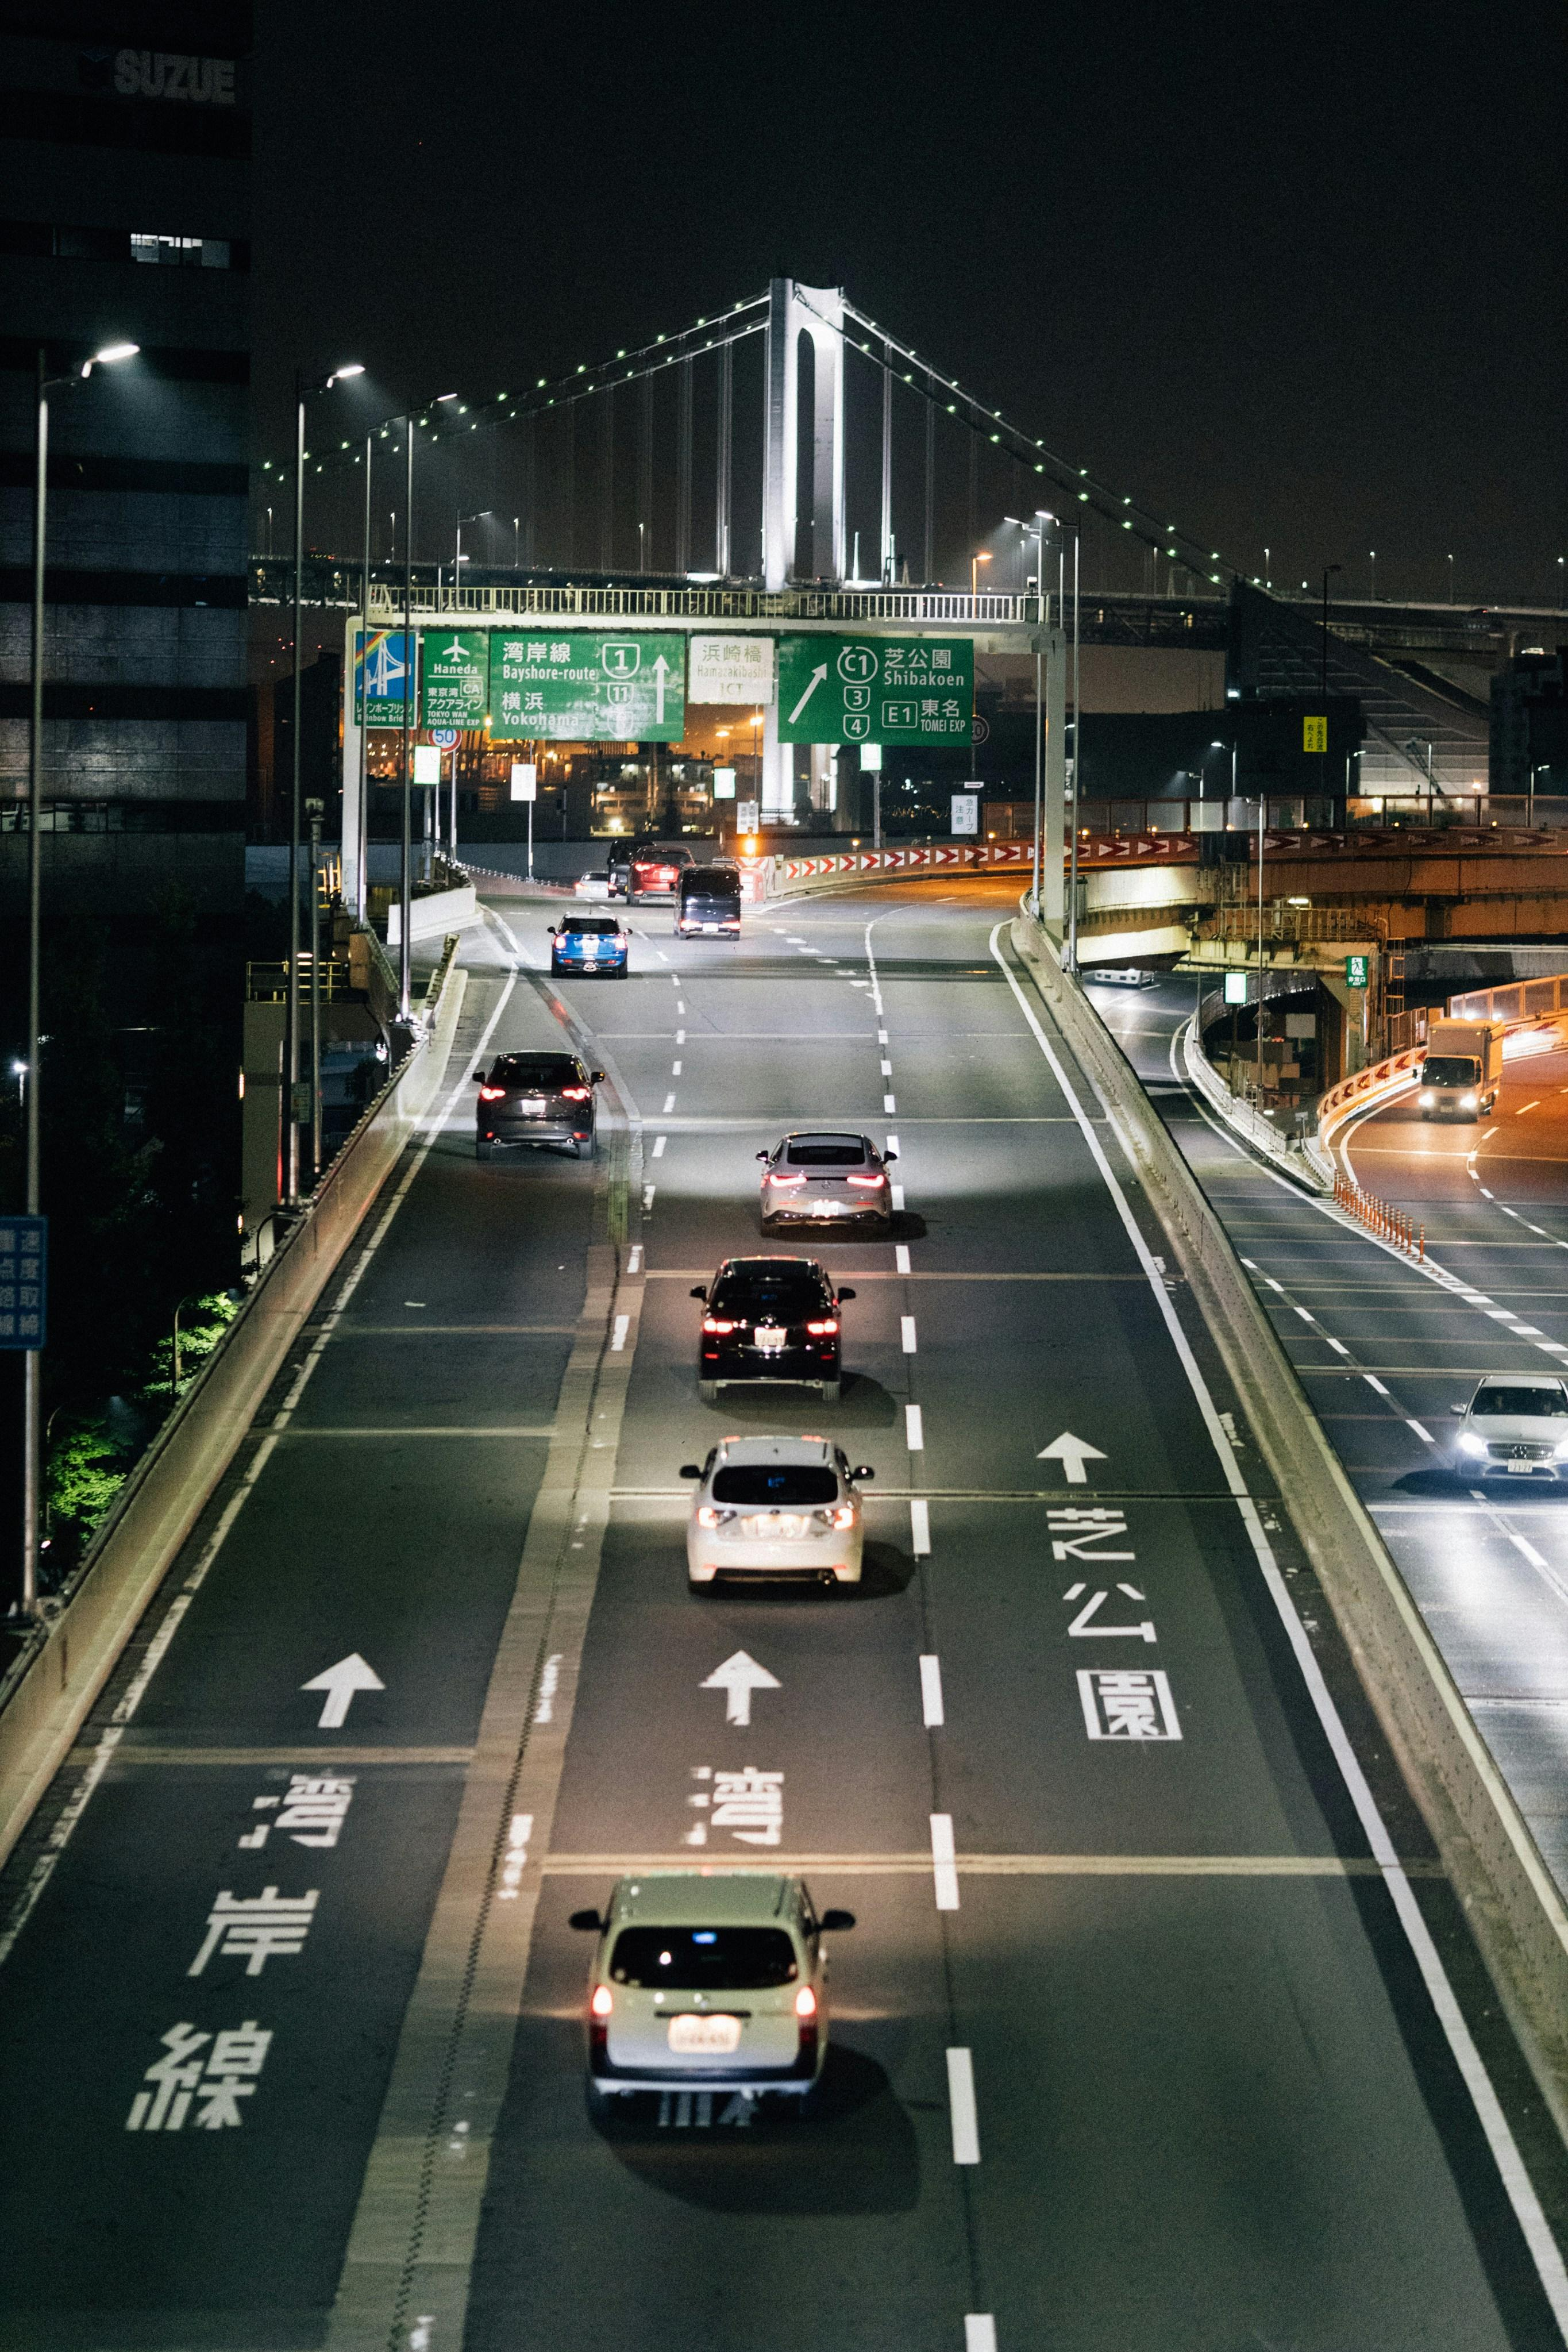Car: (570, 1869, 854, 2100), (681, 1437, 871, 1589), (691, 1255, 854, 1402), (758, 1130, 896, 1235), (476, 1053, 604, 1158), (1452, 1375, 1568, 1482), (675, 864, 742, 940), (551, 912, 628, 976), (628, 842, 695, 901), (574, 868, 614, 903)
